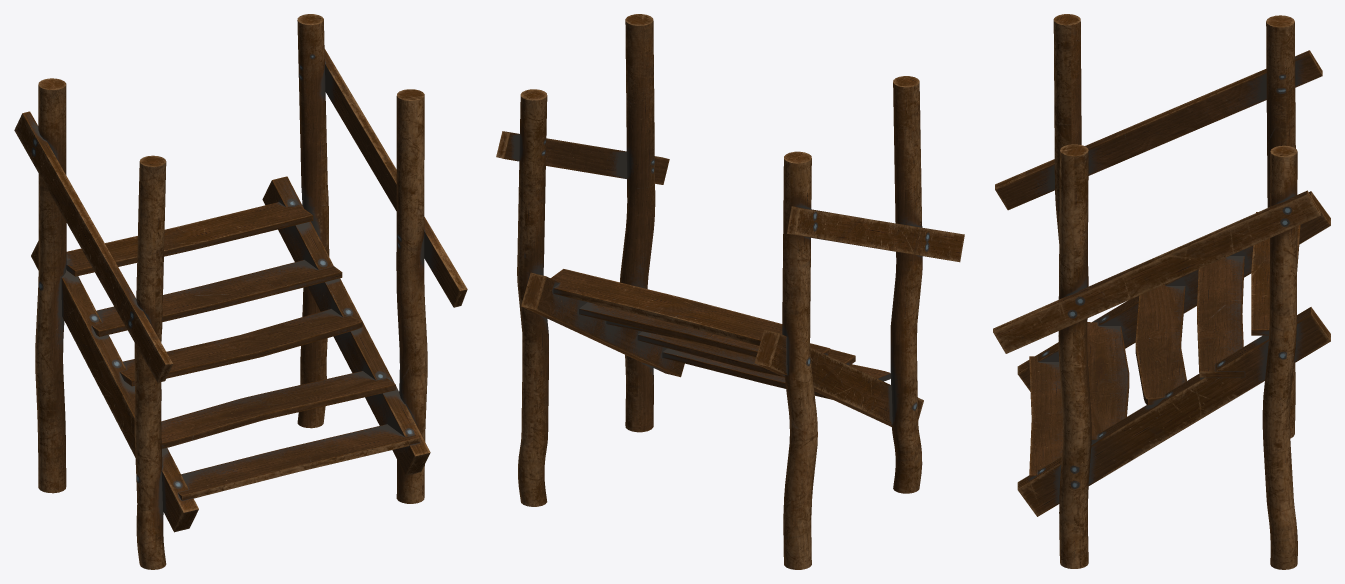
The model's file is WoodenPier_2.fbx.
The picture shows the model from 3 angles, left to right: view 1: azimuth 30°, elevation 25°; view 2: azimuth 150°, elevation 25°; view 3: azimuth 270°, elevation 25°; orthographic projection. The views are drawn at different scales.
Parts seen in each view (by area): view 1: Pier_02; view 2: Pier_02; view 3: Pier_02.
Part boxes in pixels (x1,y1,x2,y2): Pier_02: [14, 14, 467, 569]; Pier_02: [496, 14, 964, 569]; Pier_02: [993, 14, 1330, 569].
Bounding box in the file's own units: 200 × 250 × 186.
1 material, 1 textured.
